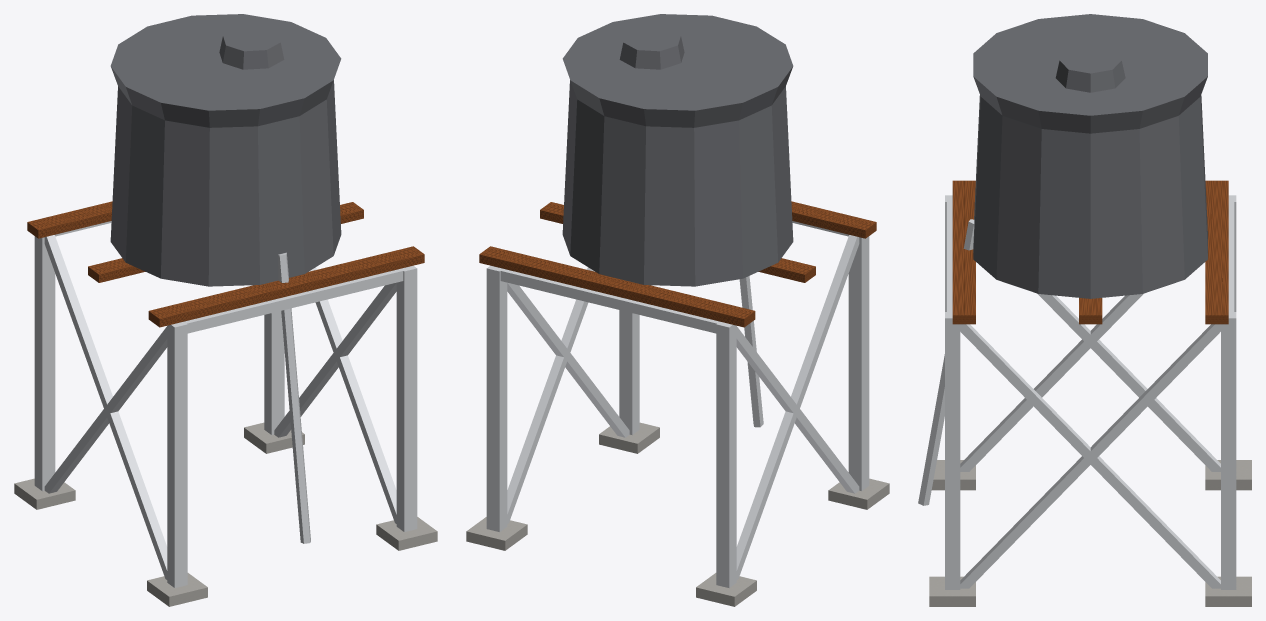
The model's file is rooftop_water_tank.glb.
3 renders of one model, left to right at view 1: azimuth 30°, elevation 25°; view 2: azimuth 150°, elevation 25°; view 3: azimuth 270°, elevation 25°, orthographic. The views are drawn at different scales.
Visible parts, largest first — view 1: rooftop-water-tank-charcoal, rooftop-water-tank-steel, rooftop-water-tank-timber, rooftop-water-tank-stone; view 2: rooftop-water-tank-charcoal, rooftop-water-tank-steel, rooftop-water-tank-timber, rooftop-water-tank-stone; view 3: rooftop-water-tank-charcoal, rooftop-water-tank-steel, rooftop-water-tank-timber, rooftop-water-tank-stone.
Boxes of the visible parts, x1=… form: rooftop-water-tank-charcoal: x1=110, y1=14, x2=341, y2=286; rooftop-water-tank-steel: x1=34, y1=221, x2=417, y2=587; rooftop-water-tank-timber: x1=27, y1=201, x2=424, y2=327; rooftop-water-tank-stone: x1=14, y1=422, x2=437, y2=606; rooftop-water-tank-charcoal: x1=562, y1=14, x2=793, y2=286; rooftop-water-tank-steel: x1=486, y1=221, x2=869, y2=587; rooftop-water-tank-timber: x1=479, y1=201, x2=876, y2=327; rooftop-water-tank-stone: x1=466, y1=422, x2=889, y2=606; rooftop-water-tank-charcoal: x1=973, y1=14, x2=1207, y2=298; rooftop-water-tank-steel: x1=918, y1=195, x2=1236, y2=589; rooftop-water-tank-timber: x1=952, y1=180, x2=1228, y2=324; rooftop-water-tank-stone: x1=929, y1=460, x2=1251, y2=606.
Size of the model in its own units: 1.66 by 2.81 by 1.72.
Materials: 4 (2 with a texture image).
